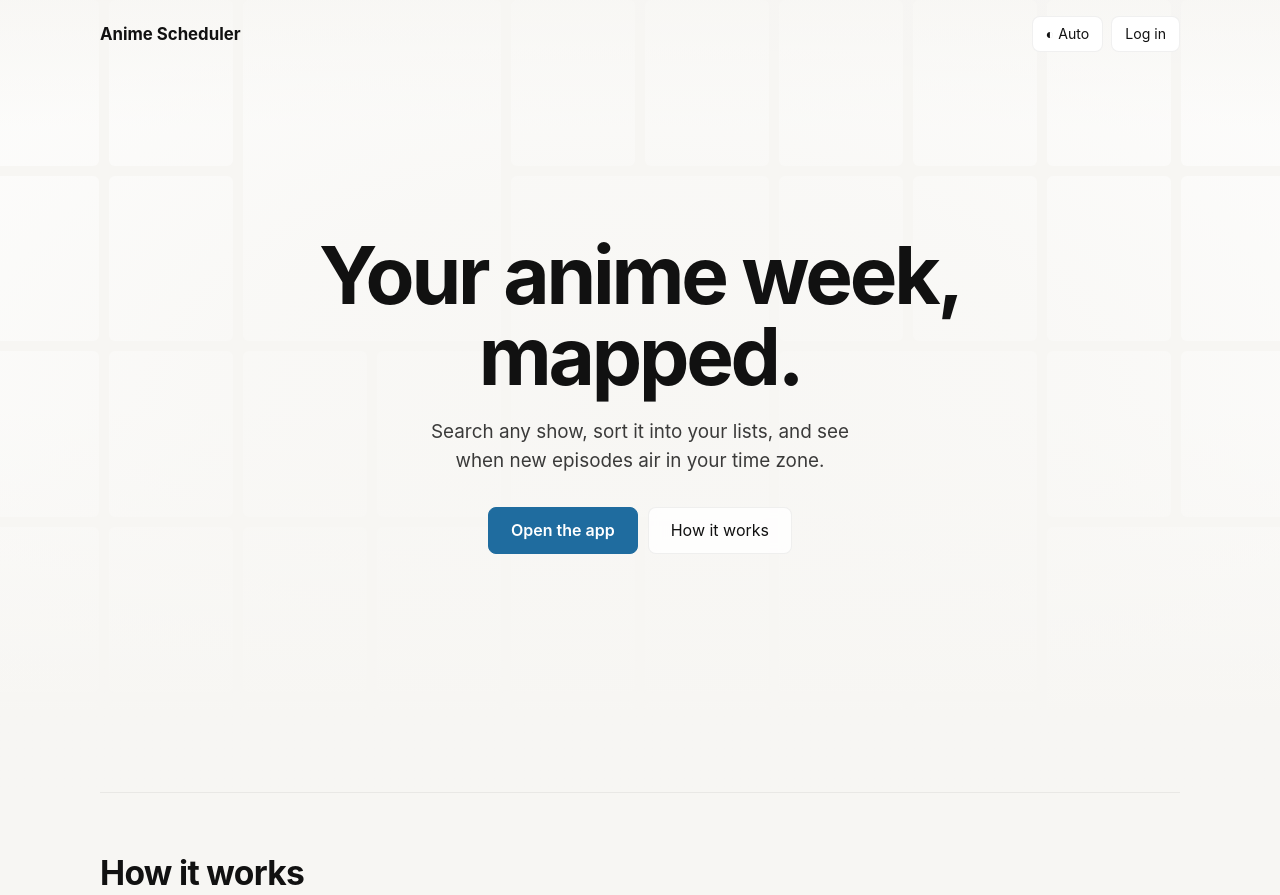
Test: App — search flow (D5/D7) › zero results shows a distinct empty state
The image size is (1280, 895).
Click the button "Open the app".
click(563, 531)  # box [488, 507, 638, 554]
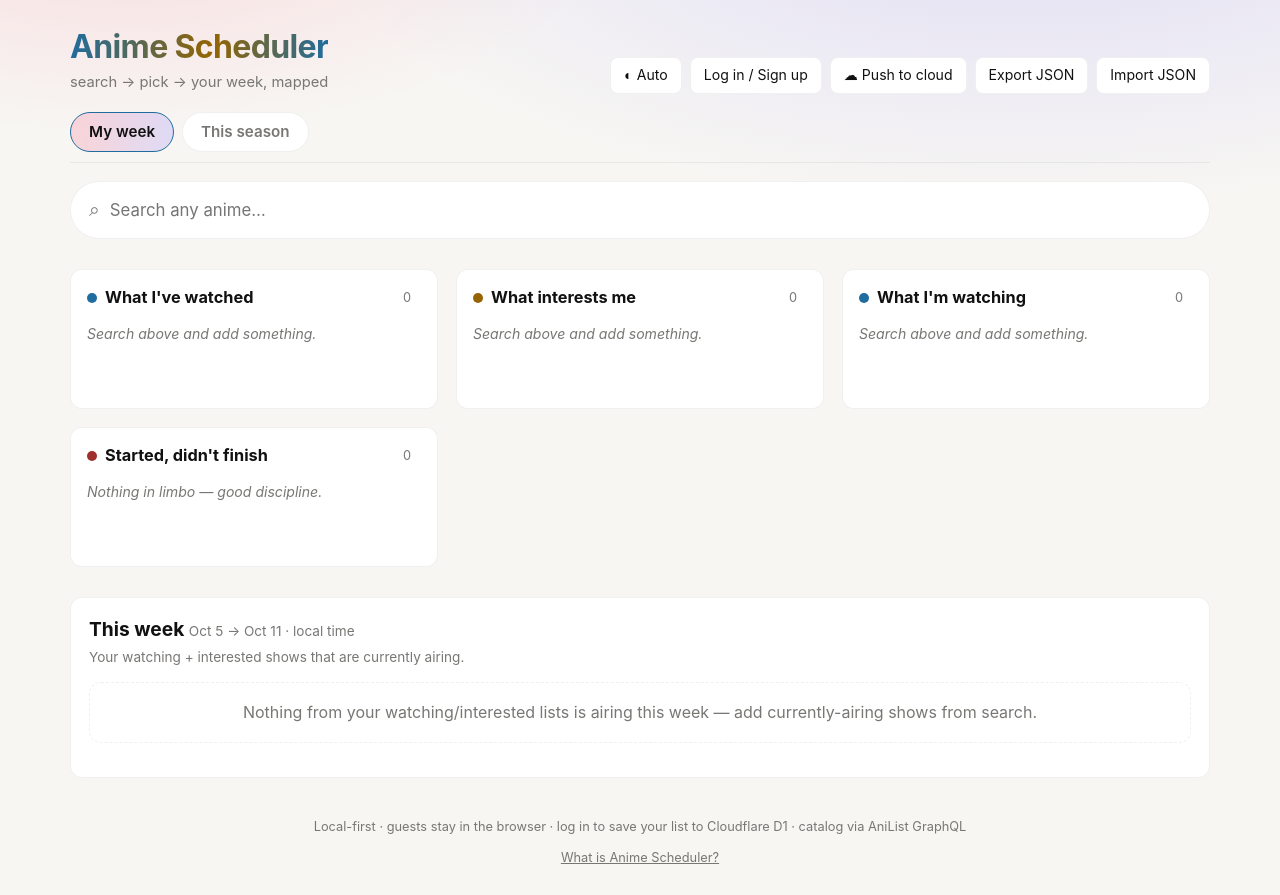
Type "zzz" into the search field named "Search anime".
click(650, 210); type("zzz")  # box [110, 188, 1191, 232]
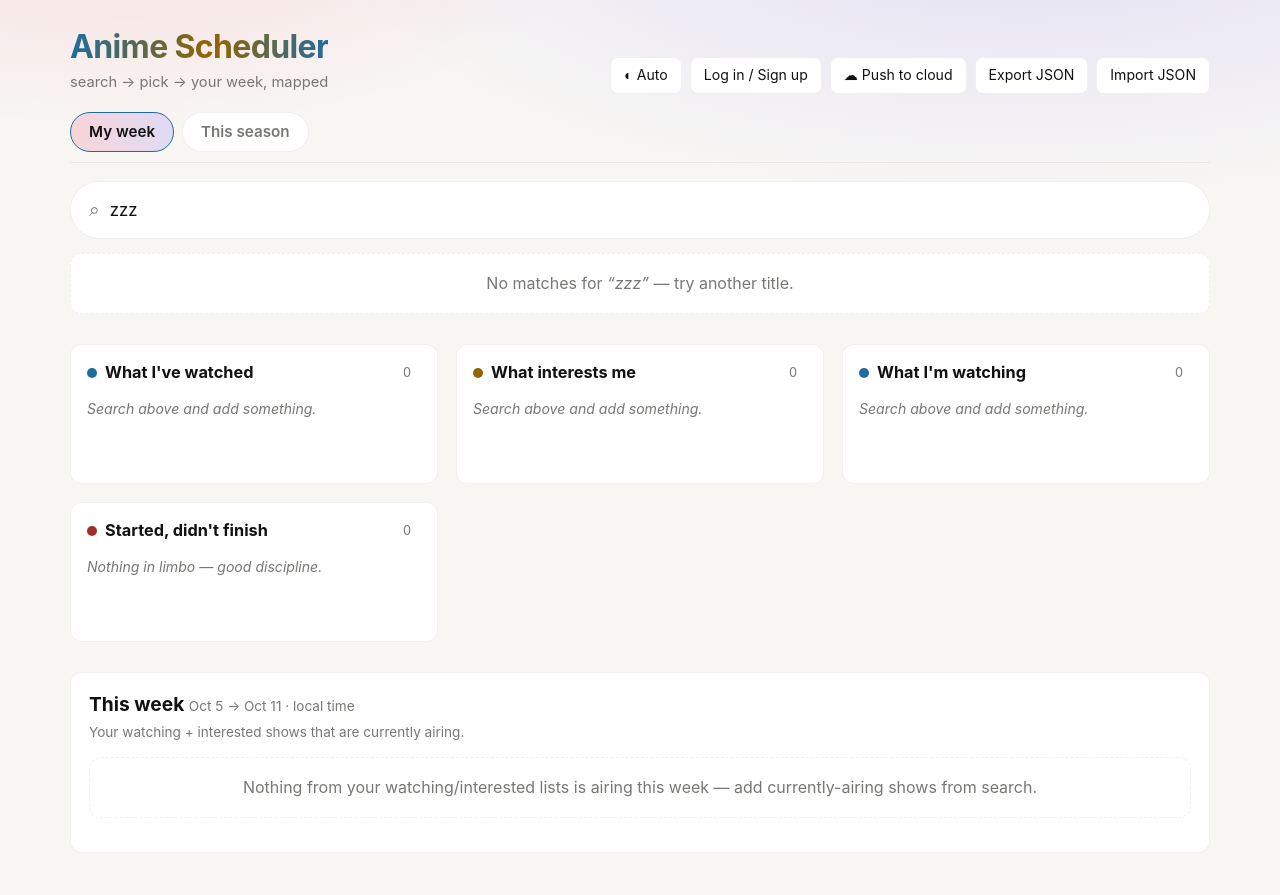
expect the text "No matches for “zzz” — try another title." is shown: met, box [486, 273, 794, 293]
